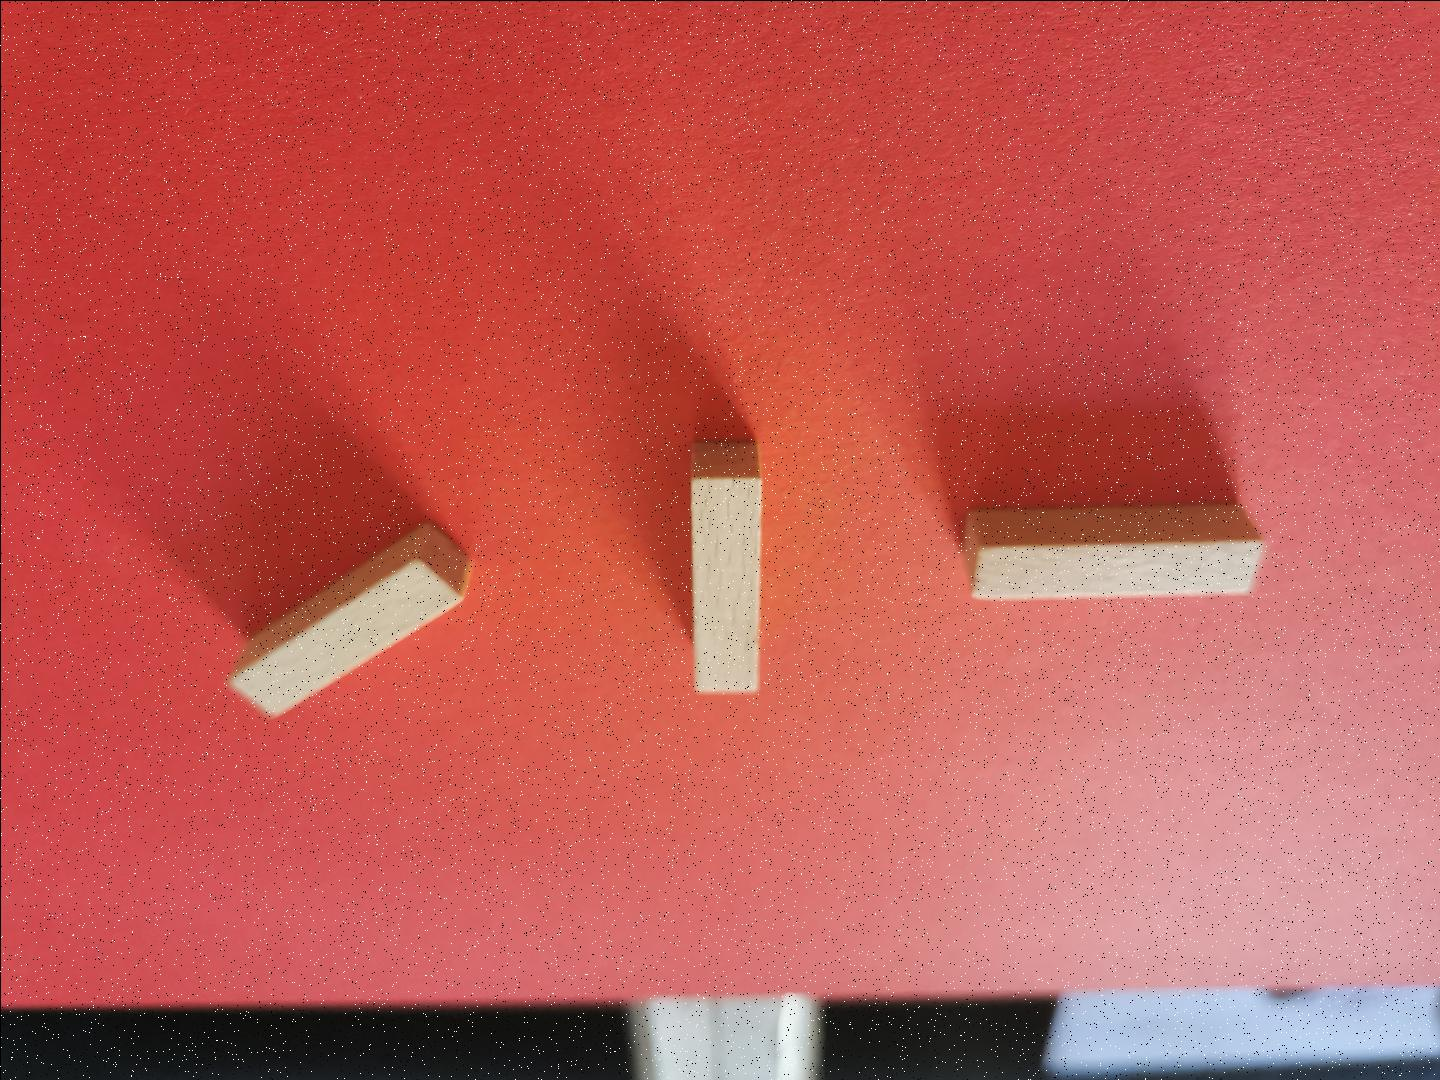jenga: (228, 523, 469, 715), (962, 504, 1263, 599), (689, 441, 762, 692)
